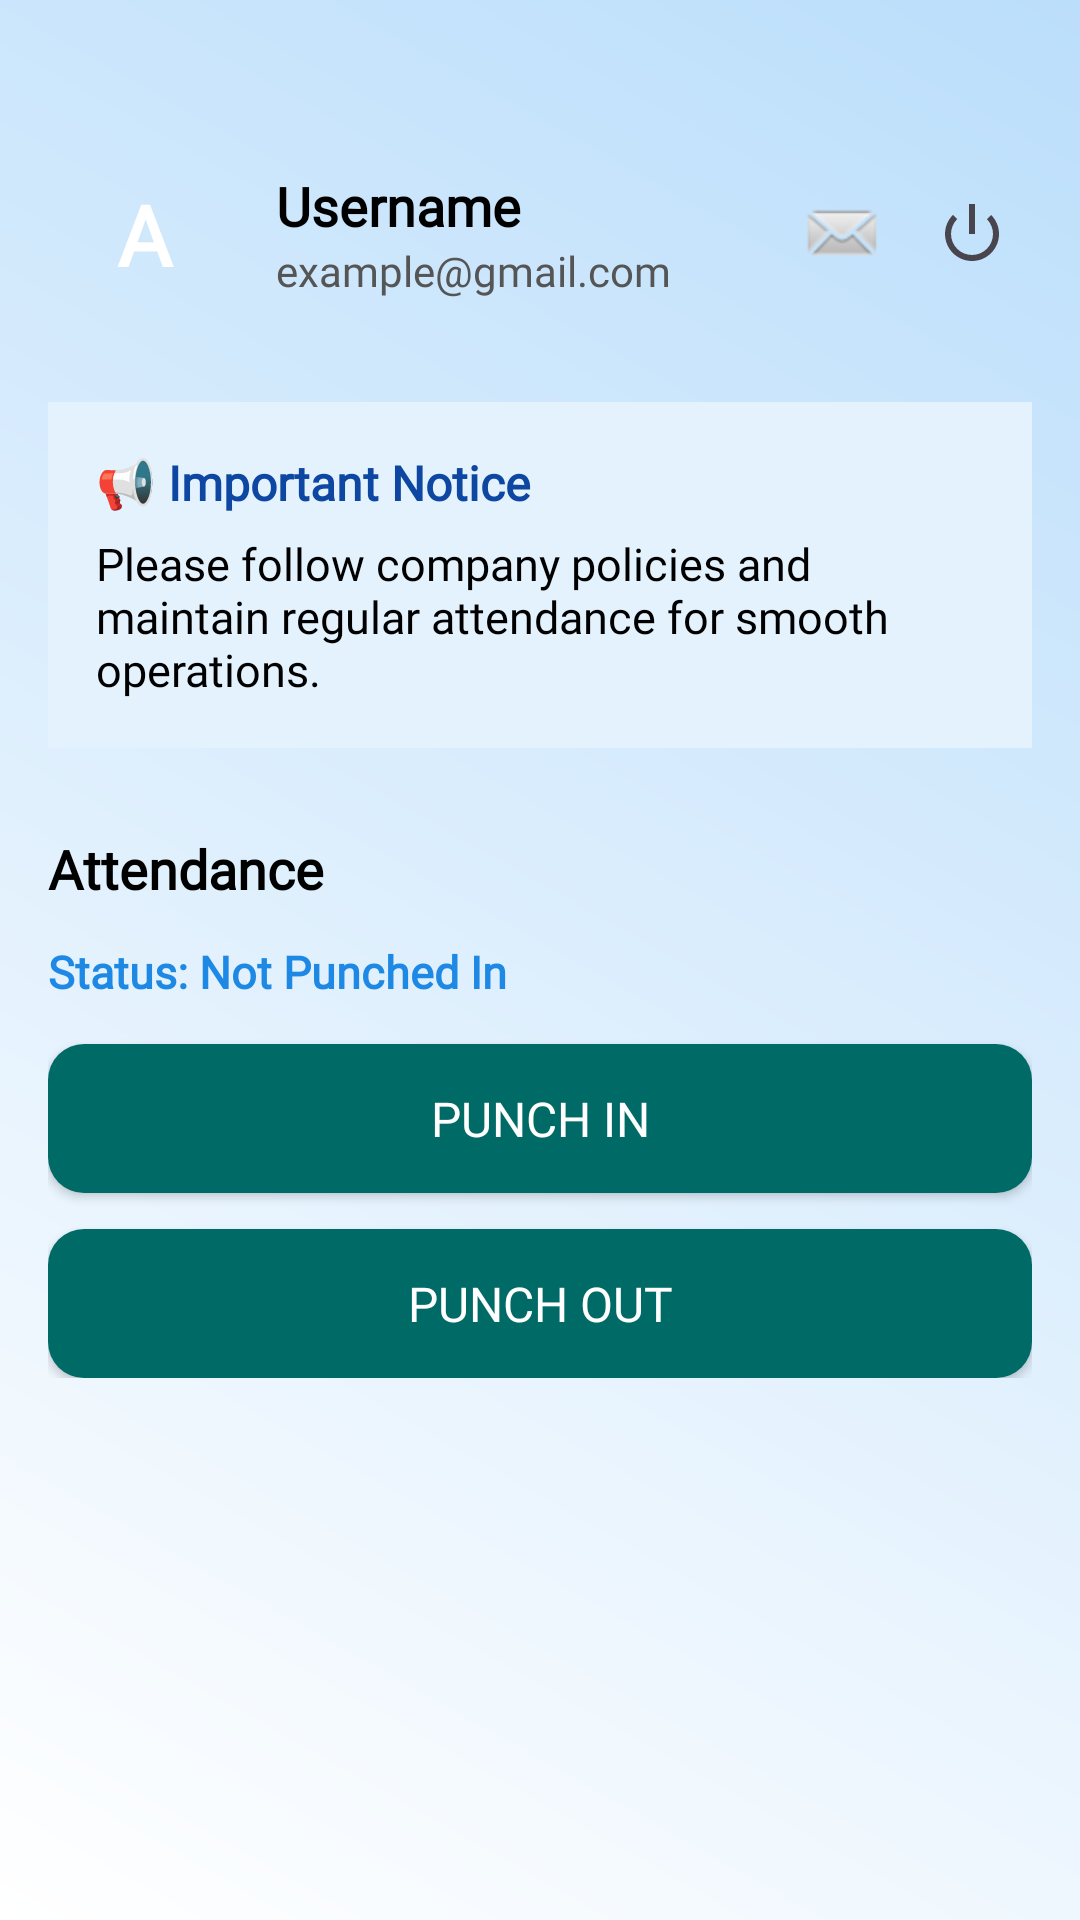

Locate icon controls on the screen. Image size 1080*1920, boxes as {"left": x1, "top": y1, "right": x2, "bottom": y2}.
lock power off: {"left": 945, "top": 204, "right": 999, "bottom": 261}
sym action email: {"left": 808, "top": 210, "right": 876, "bottom": 255}
